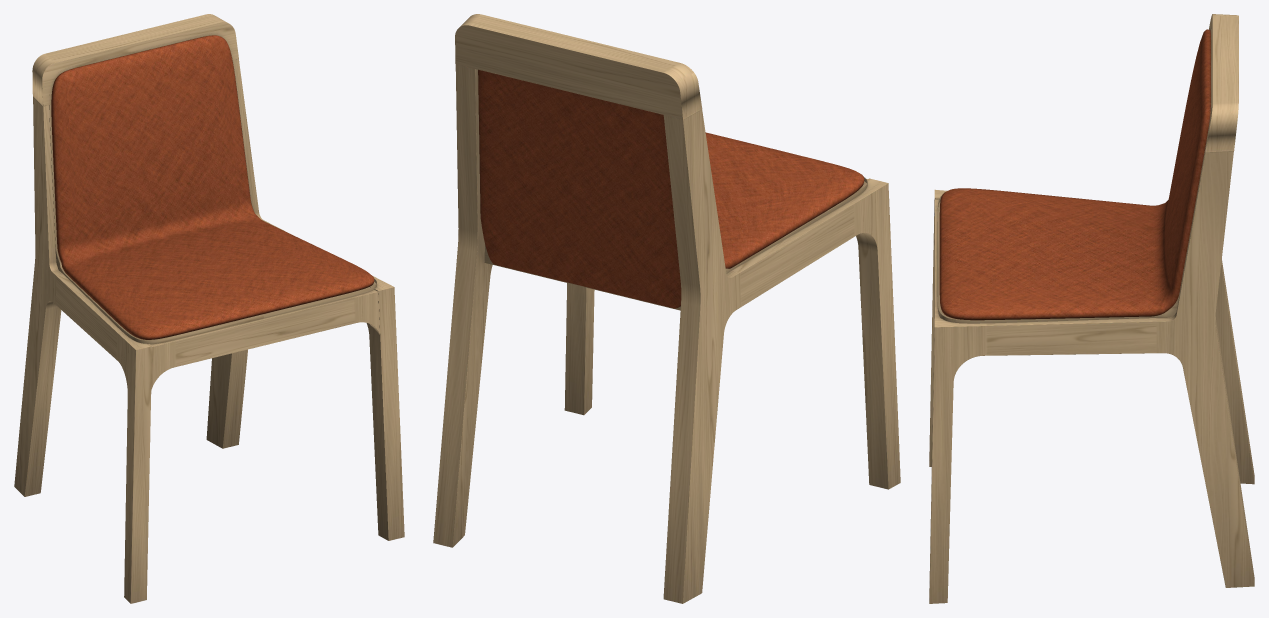
The picture shows the model from 3 angles, left to right: view 1: azimuth 30°, elevation 25°; view 2: azimuth 150°, elevation 25°; view 3: azimuth 270°, elevation 25°; orthographic projection. The views are drawn at different scales.
Visible parts, largest first — view 1: Cast_Chair; view 2: Cast_Chair; view 3: Cast_Chair.
Part boxes in pixels (bbox=[...]): Cast_Chair: bbox=[14, 14, 404, 603]; Cast_Chair: bbox=[433, 14, 900, 603]; Cast_Chair: bbox=[929, 14, 1254, 603].
Bounding box in the file's own units: 0.5078 × 0.766 × 0.479.
Materials: 2 (2 with a texture image).
